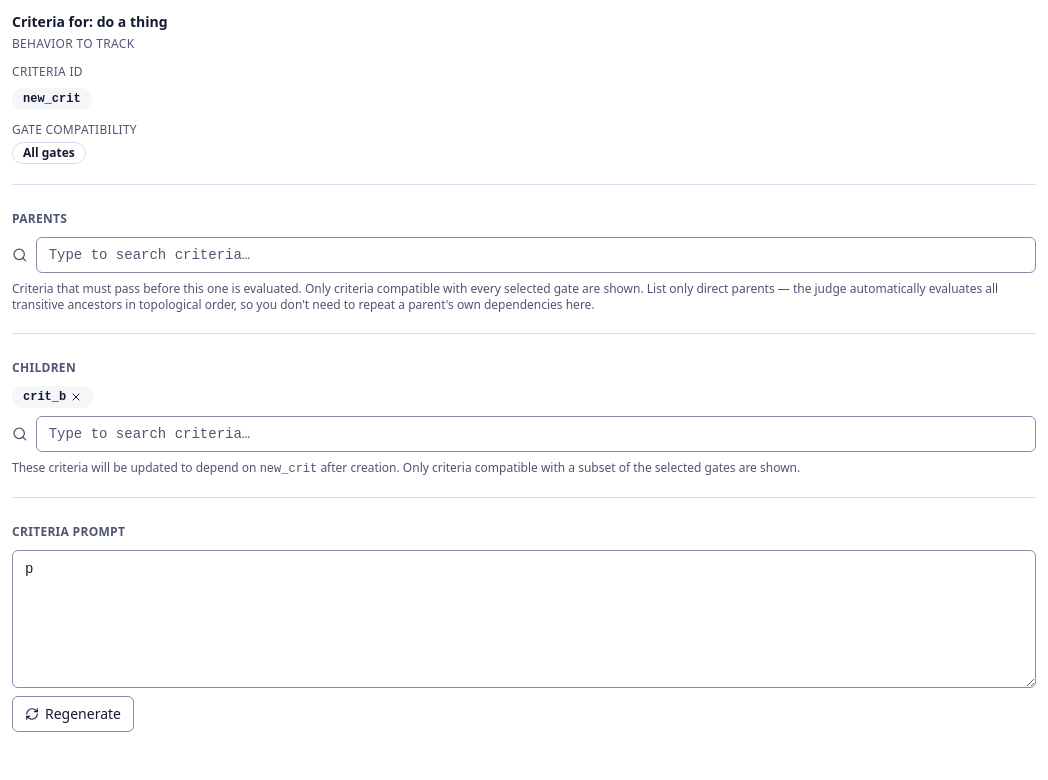
Scenario: CriteriaWizardStep2 — parent/child cross-exclusion › does not offer a child-selected criterion in the Parents picker
The width and height of the screenshot is (1048, 780).
Focus the 1st field with placeholder "Type to search criteria…" at coordinates (536, 255), box [36,237,1036,273]
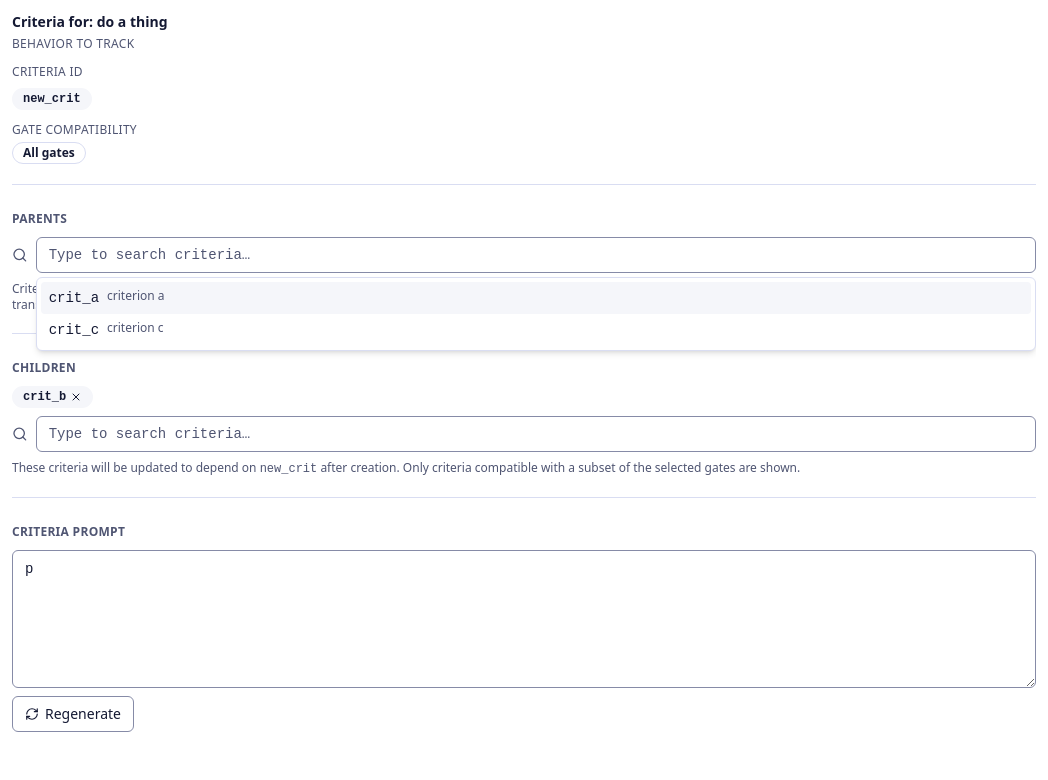
Expected: the text "crit_b" is not shown
Now the text "crit_a" is shown, box [49,288,99,308]
Now the text "crit_c" is shown, box [49,320,99,340]
